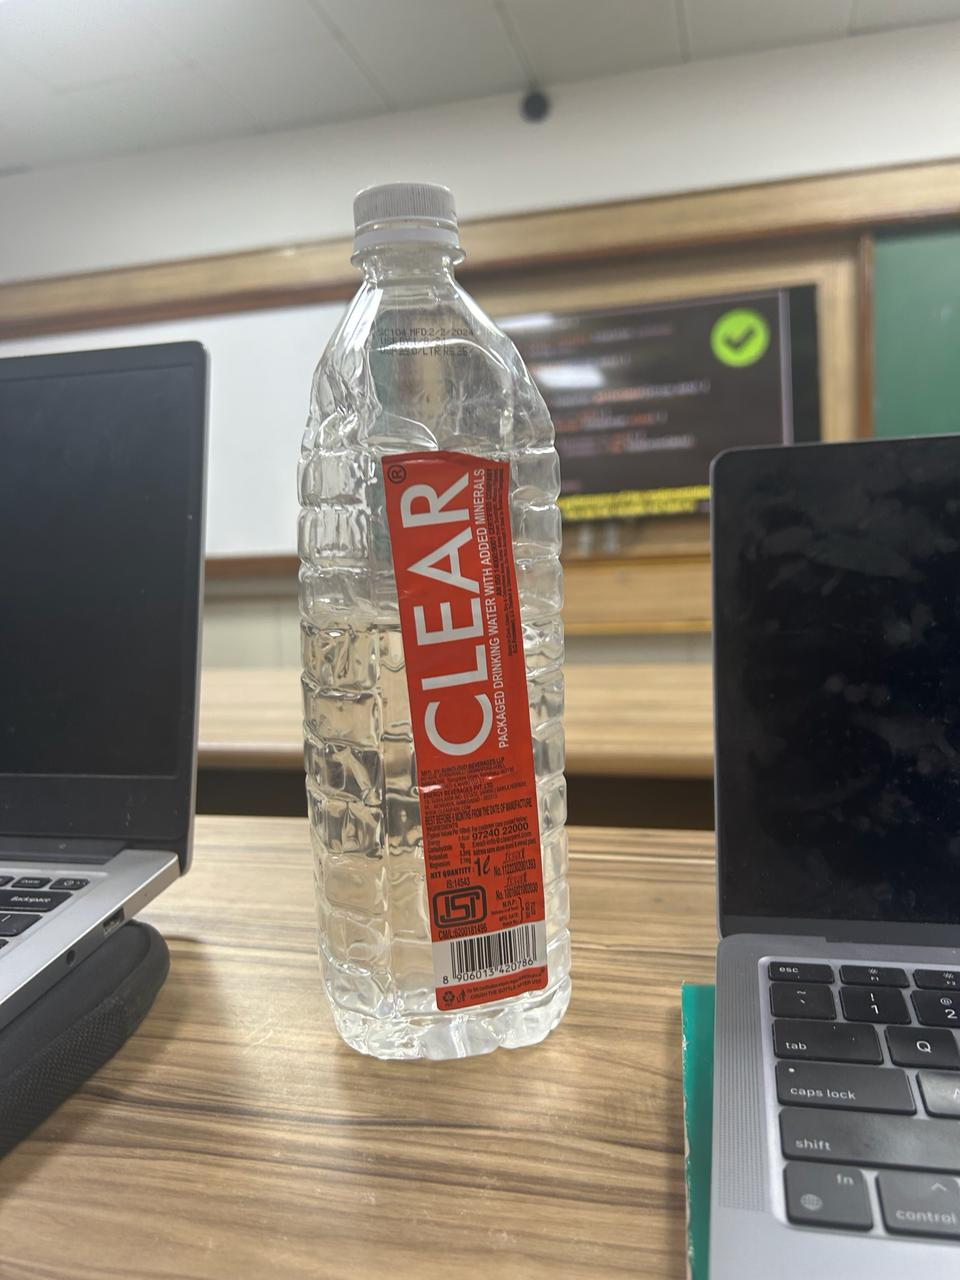bottle: (272, 178, 625, 1079)
